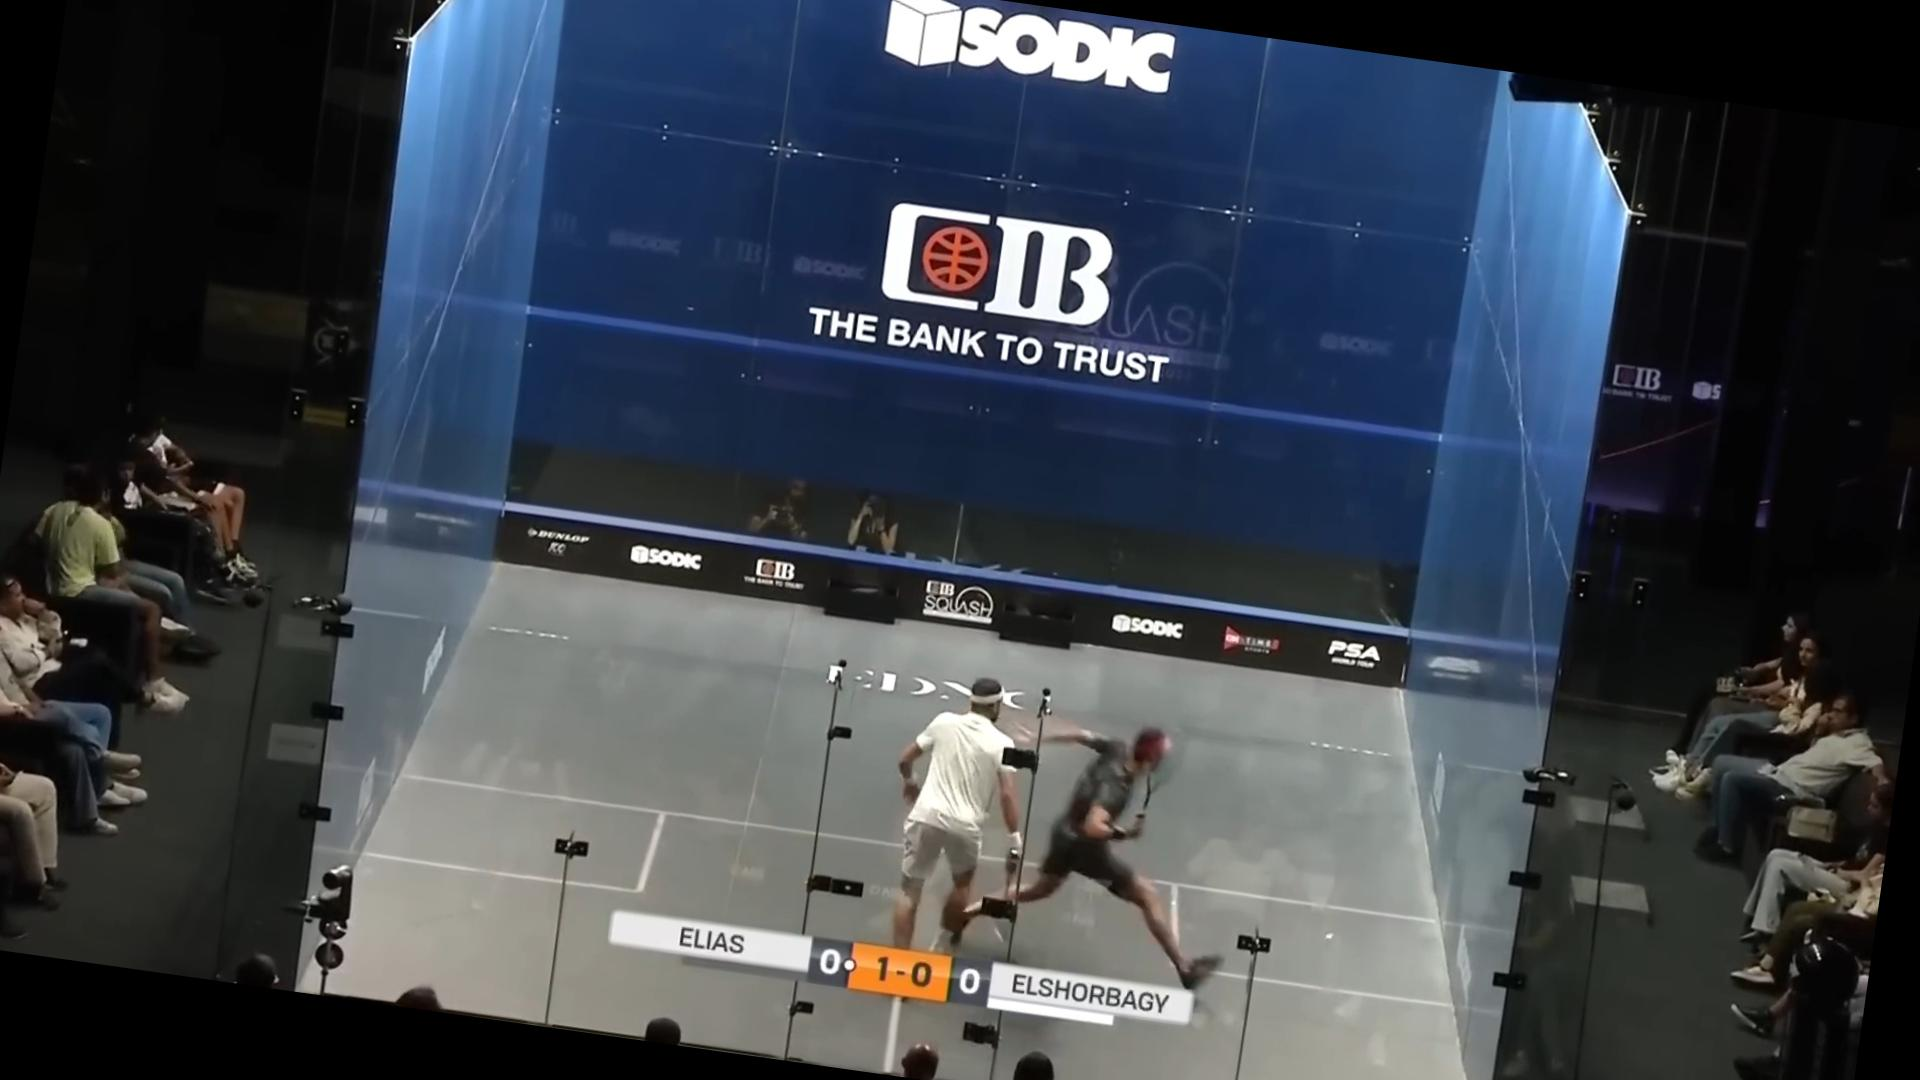Squash-Ball: (1315, 924, 1344, 948)
